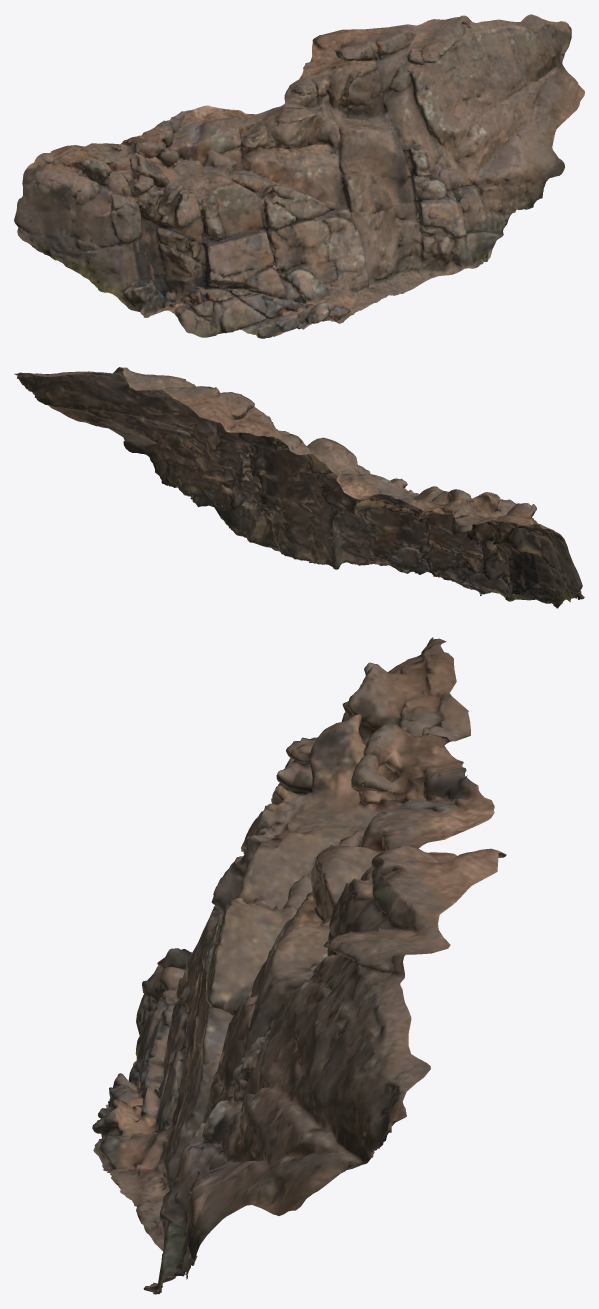
The model's file is namaqualand_cliff_02.99d4c81b83.glb.
3 renders of one model, top to bottom at view 1: azimuth 30°, elevation 25°; view 2: azimuth 150°, elevation 25°; view 3: azimuth 270°, elevation 25°, orthographic. The views are drawn at different scales.
Visible parts, largest first — view 1: drone_rock_02_LOD0; view 2: drone_rock_02_LOD0; view 3: drone_rock_02_LOD0.
Boxes of the visible parts, x1,y1,x2,y2 form: drone_rock_02_LOD0: (14, 14, 584, 338); drone_rock_02_LOD0: (14, 367, 584, 608); drone_rock_02_LOD0: (92, 637, 506, 1294).
Bounding box in the file's own units: 20.23 × 7.18 × 6.59.
1 material, 1 textured.
